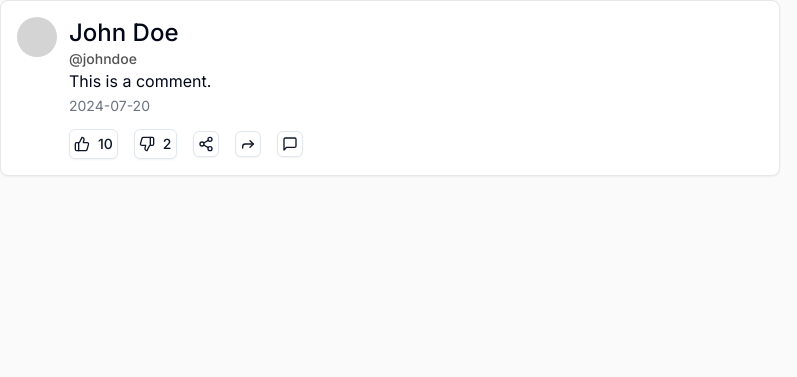
Scenario: hBPCommentBox Component › should show reply form when reply button is clicked
What coordinates should you click on to do the following:
click the element with test id "reply-button"
I would click on:
 (290, 144)
Its box is [276,131,302,157].
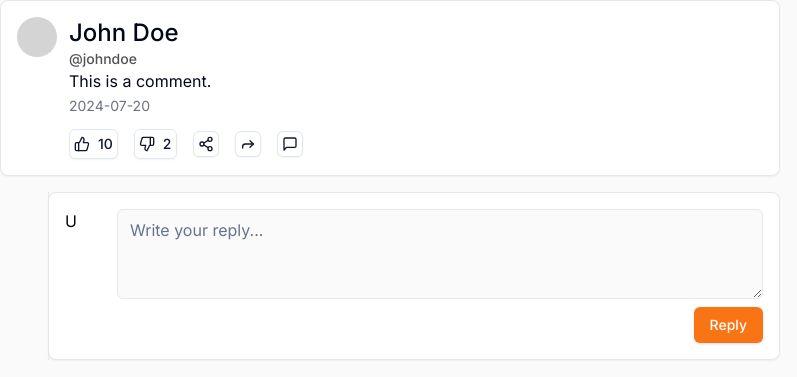
Expected: the element with test id "reply-form-container" is shown, [48,192,780,360]
